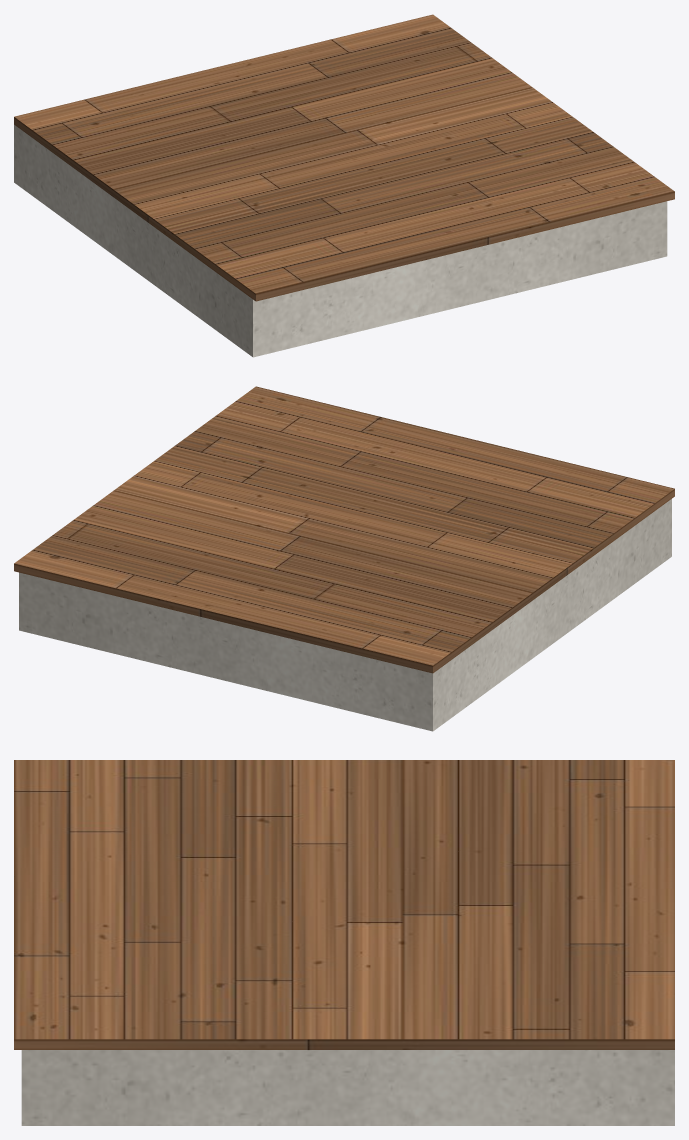
File: floor_floor_u_e1010.glb
3 renders of one model, top to bottom at view 1: azimuth 30°, elevation 25°; view 2: azimuth 150°, elevation 25°; view 3: azimuth 270°, elevation 25°, orthographic. The views are drawn at different scales.
Visible parts, largest first — view 1: floor_floor_u_e1010_floor, floor_floor_u_e1010_plaster; view 2: floor_floor_u_e1010_floor, floor_floor_u_e1010_plaster; view 3: floor_floor_u_e1010_floor, floor_floor_u_e1010_plaster.
Part boxes in pixels (bbox=[...]): floor_floor_u_e1010_floor: bbox=[14, 14, 674, 301]; floor_floor_u_e1010_plaster: bbox=[14, 124, 667, 357]; floor_floor_u_e1010_floor: bbox=[14, 386, 674, 673]; floor_floor_u_e1010_plaster: bbox=[19, 499, 671, 731]; floor_floor_u_e1010_floor: bbox=[14, 760, 674, 1049]; floor_floor_u_e1010_plaster: bbox=[21, 1050, 674, 1125].
Bounding box in the file's own units: 1.7 × 0.255 × 1.7.
2 materials, 2 textured.
